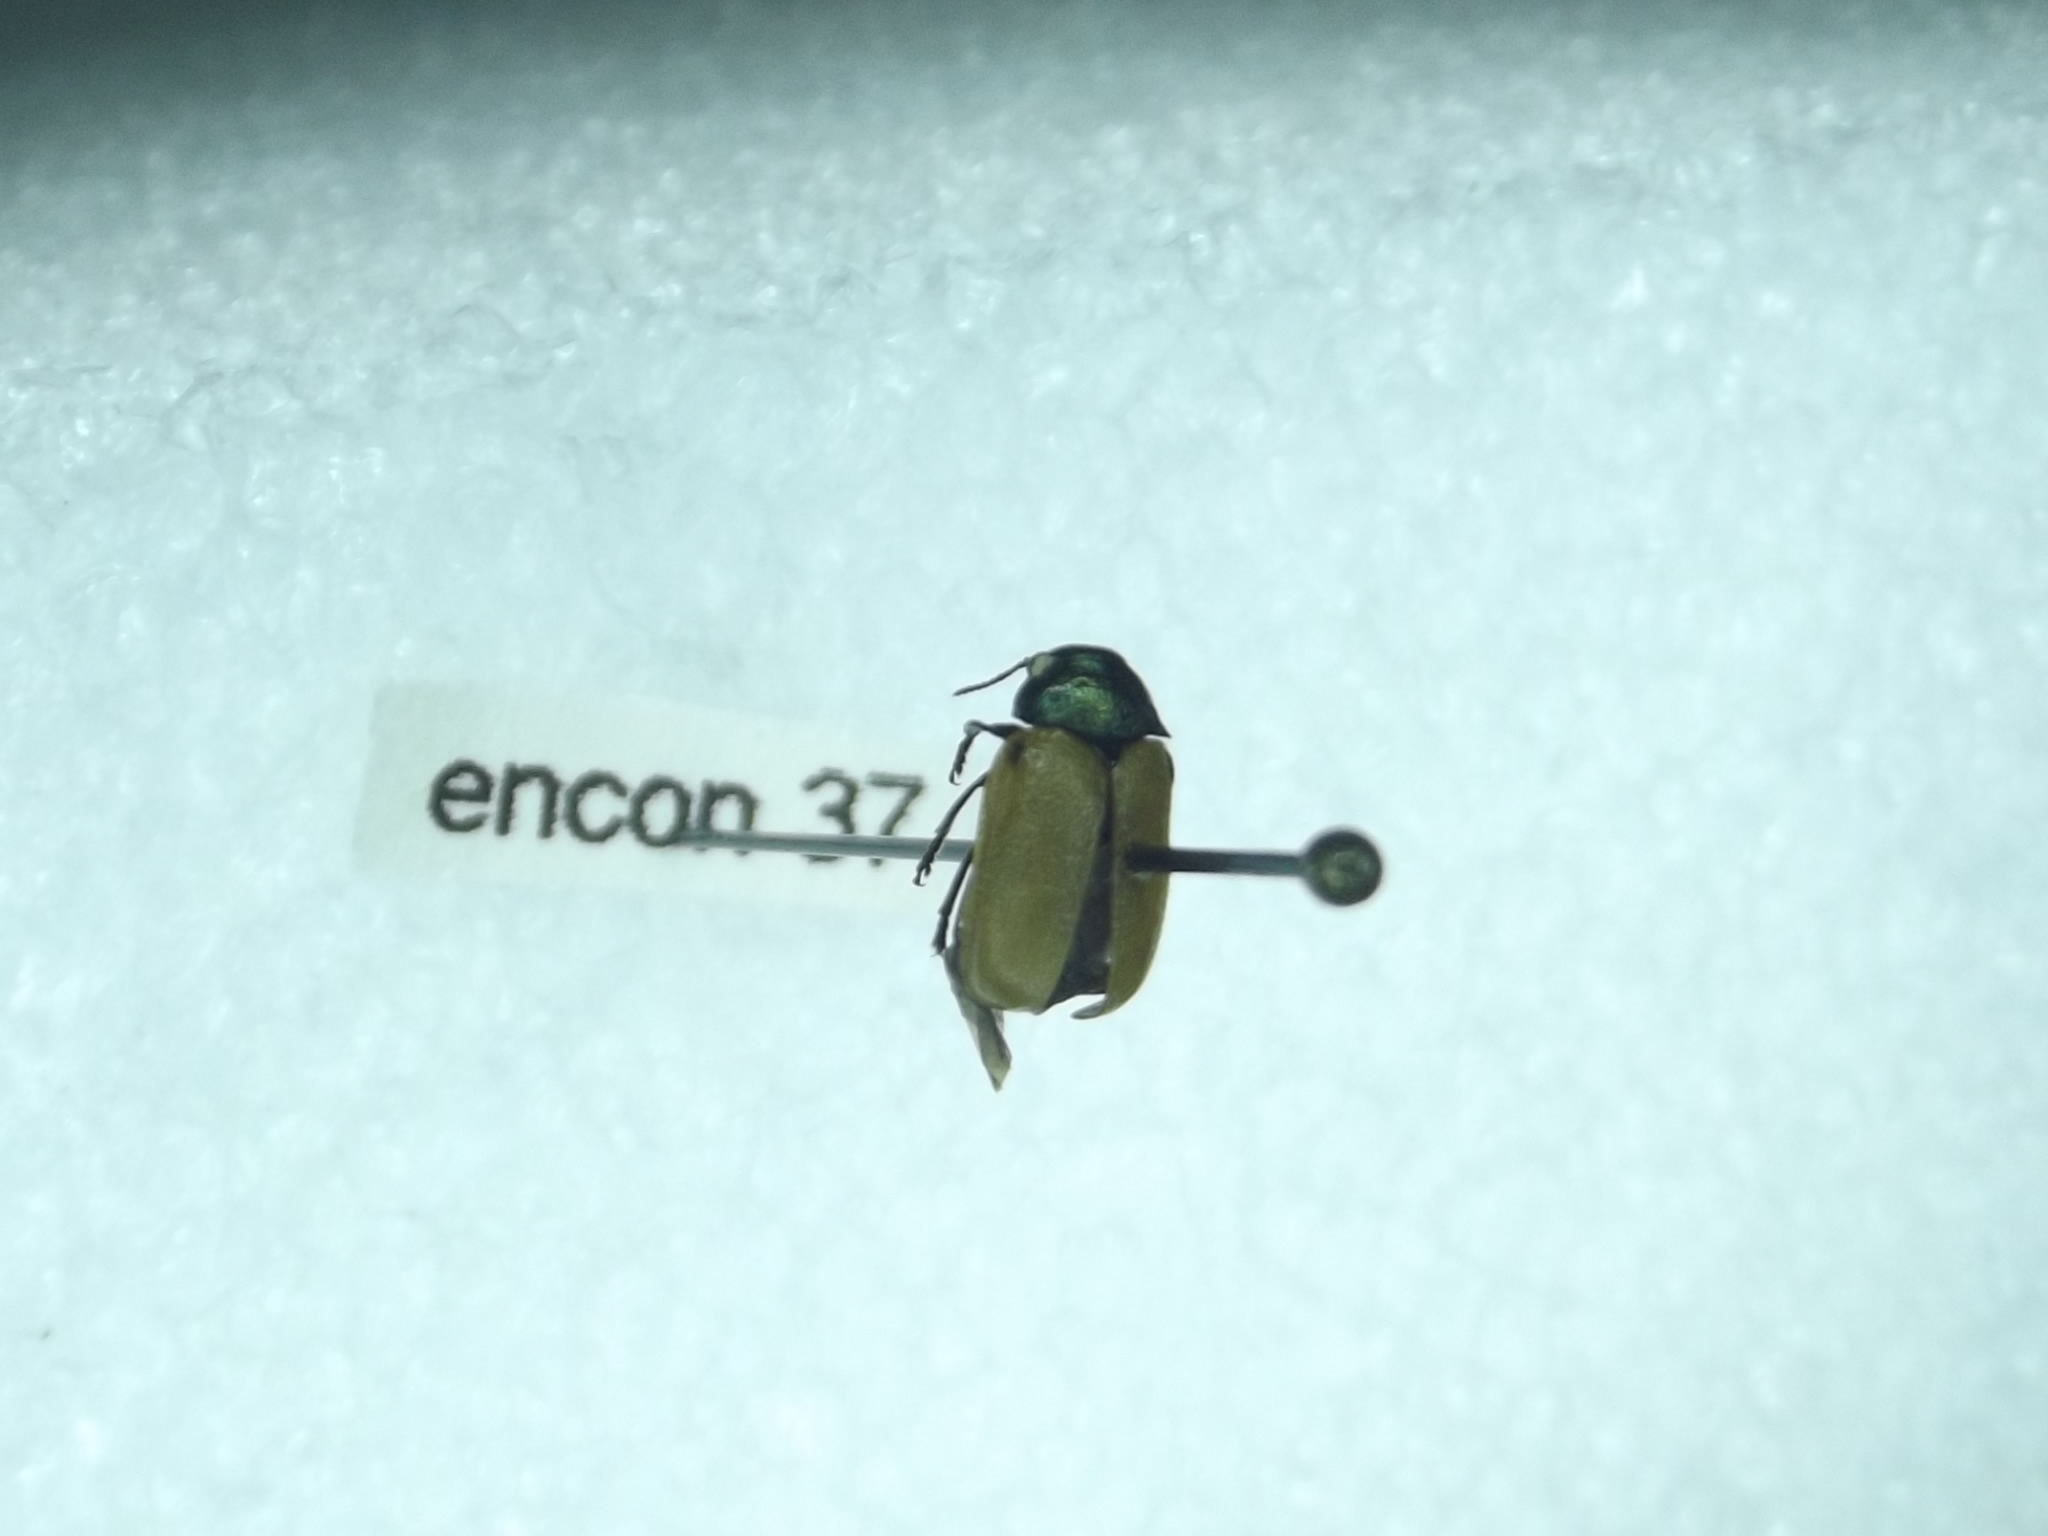Labidostomis_longimana: (898, 634, 1197, 1084)
